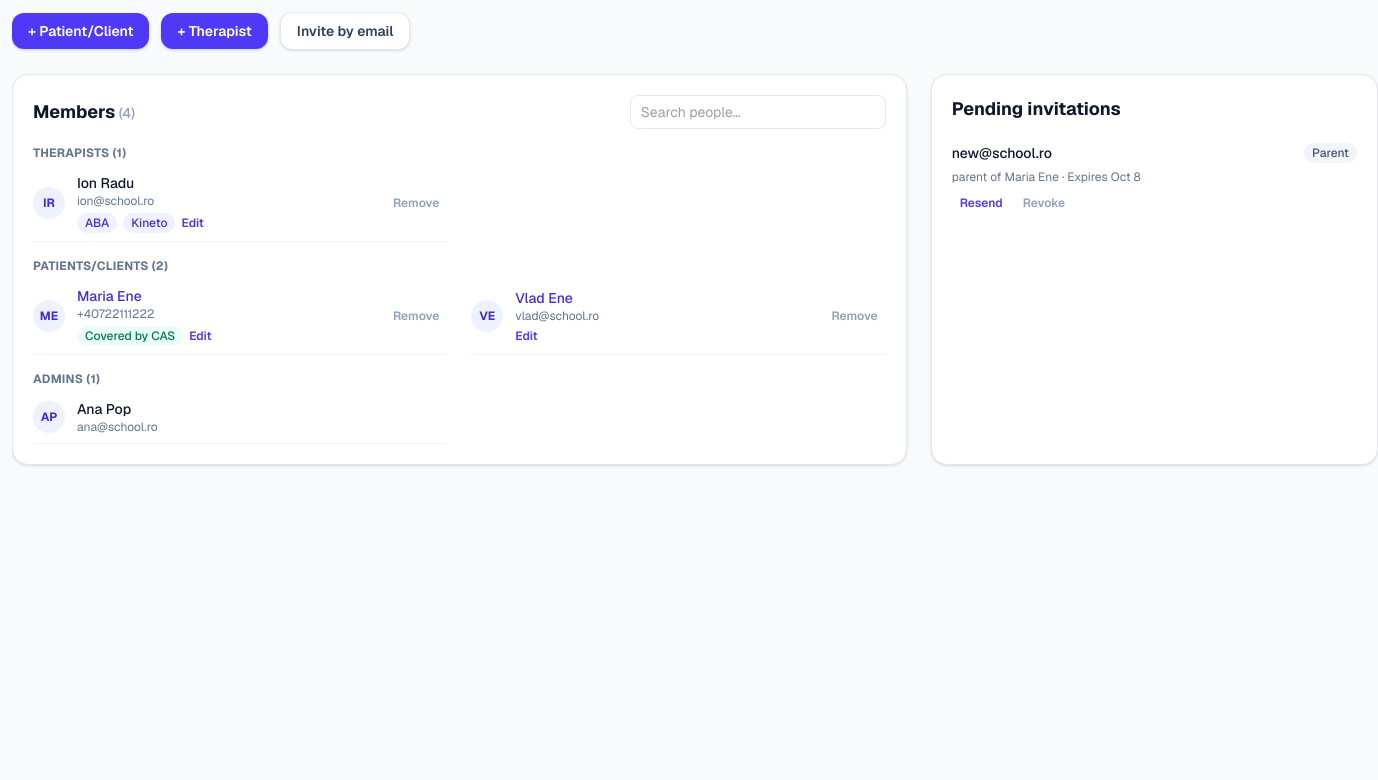
Scenario: People › opens the invitation form and closes it again
Expected: the text "Ion Radu" is shown, [77,174,134,192]
Click the button "Invite by email". click: coordinates (345, 31)
box: [280,12,410,50]
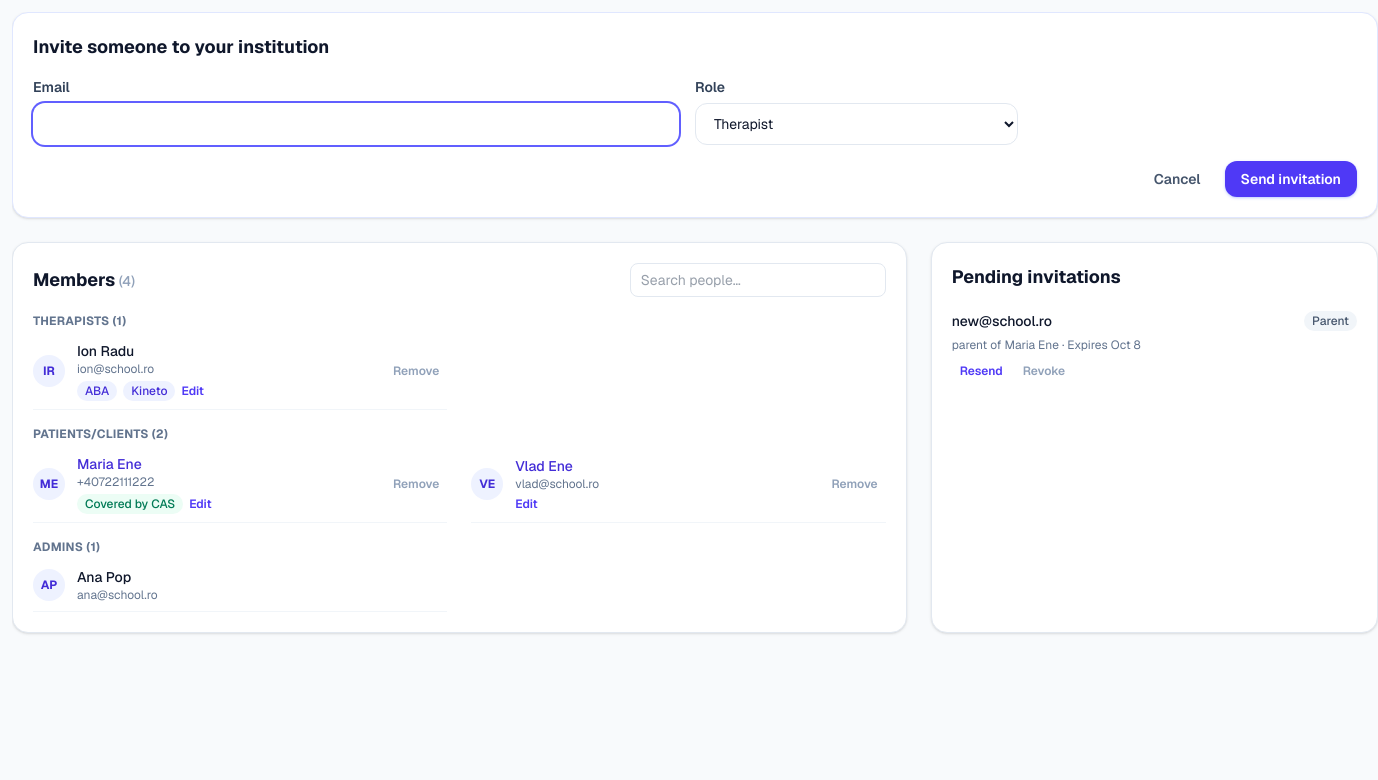
Expected: the heading "Invite someone to your institution" is shown, [33,35,329,58]
Click the button "Cancel". click: coordinates (1177, 179)
box: [1138,161,1216,197]
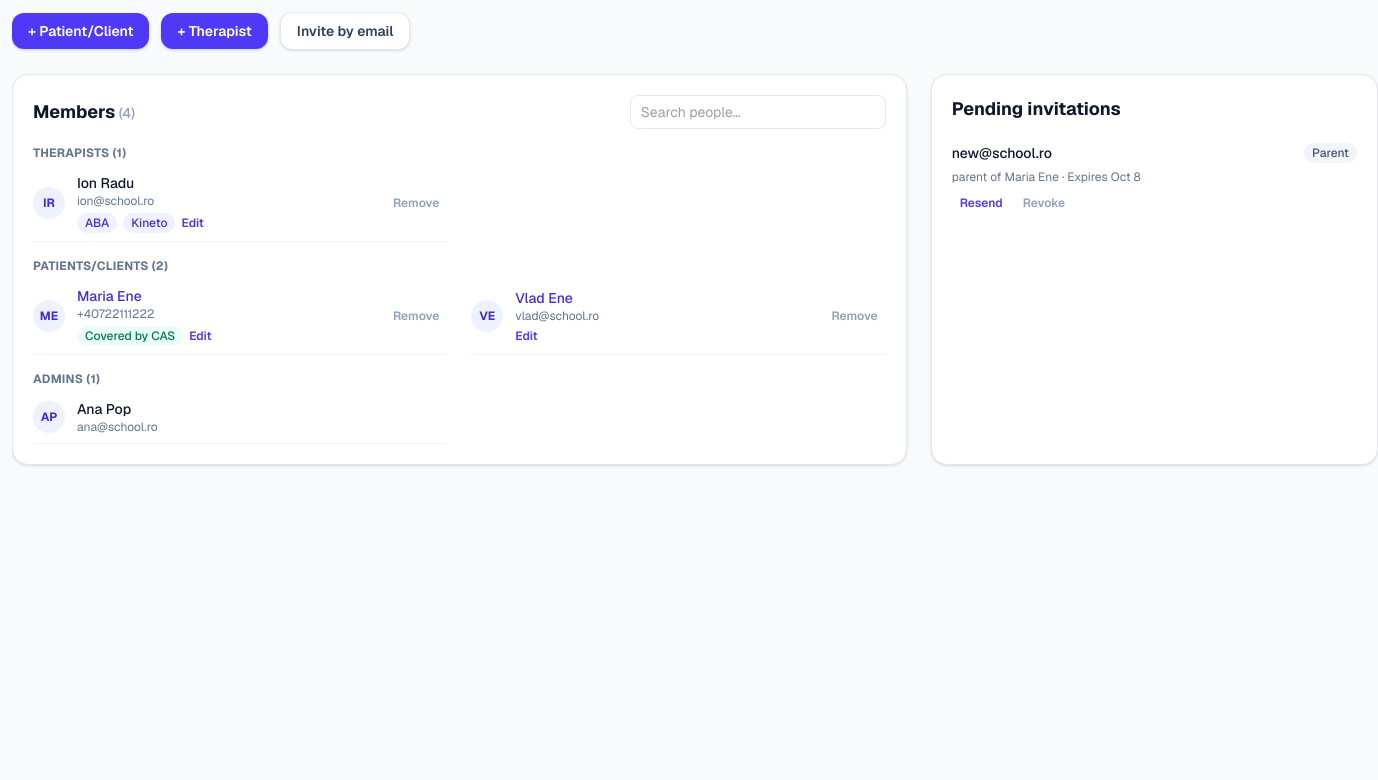
Expected: the button "Invite by email" is shown, [280,12,410,50]
